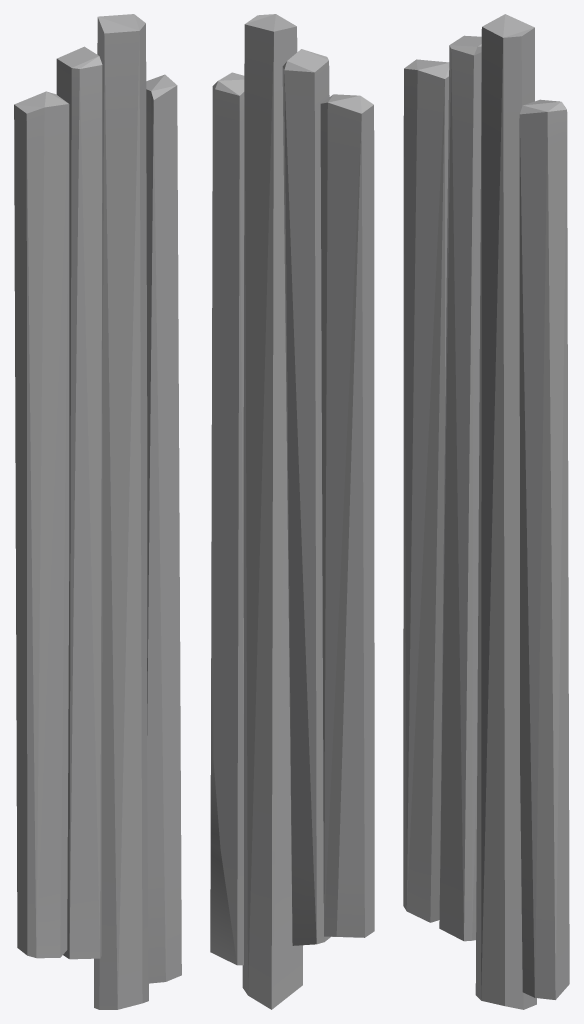
3 views of the same model, side by side, from view 1: azimuth 30°, elevation 25°; view 2: azimuth 150°, elevation 25°; view 3: azimuth 330°, elevation 25° (orthographic).
Visible parts, largest first — view 1: rock_20m_2; view 2: rock_20m_2; view 3: rock_20m_2.
Part boxes in pixels (<box>): rock_20m_2: <box>14,14,181,1009</box>; rock_20m_2: <box>210,14,374,1009</box>; rock_20m_2: <box>403,14,569,1009</box>.
Size of the model in its own units: 3.5 by 21.45 by 1.
Materials: 1 (1 with a texture image).
